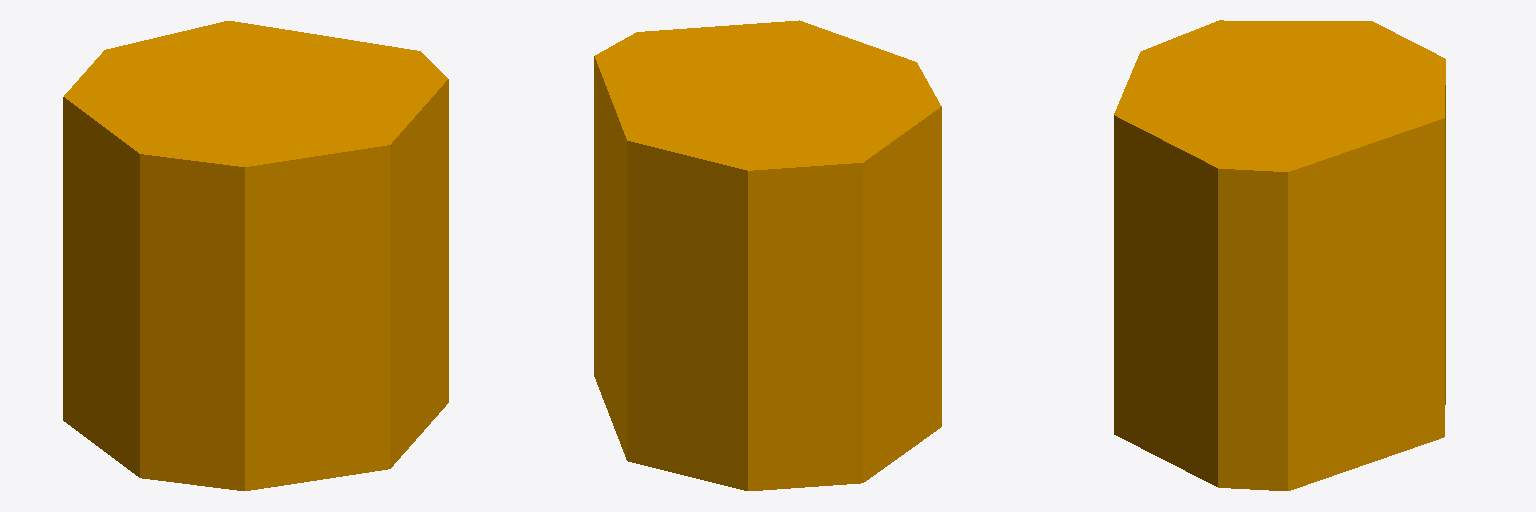
The robot description file, URDF, robot "object":
<?xml version="1.0"?>
<robot name="object">
  <link name="object">
    <visual>
      <origin xyz="0 0 0"/>
      <geometry>
        <mesh filename="meshes/generated/col_094.obj" scale="0.03 0.03 0.03"/>
      </geometry>
    </visual>
    <collision>
      <origin xyz="0 0 0"/>
      <geometry>
        <mesh filename="meshes/generated/col_094.obj" scale="0.03 0.03 0.03"/>
      </geometry>
    </collision>
    <inertial>
      <density value="1000.0"/>
    </inertial>
  </link>
</robot>

--- What the picture shows (computed from the rendered views, not written in the file) ---
Views: 3 orthographic renders of the robot side by side, from view 1: azimuth 30°, elevation 25°; view 2: azimuth 150°, elevation 25°; view 3: azimuth 270°, elevation 25°.
Model object with 1 links and 0 joints (none), rooted at object, posed every joint at zero.
Links seen in each view (by area): view 1: object; view 2: object; view 3: object.
Link boxes in pixels (bbox=[...]): object: bbox=[63, 21, 448, 490]; object: bbox=[594, 20, 941, 490]; object: bbox=[1114, 20, 1445, 490].
Size in the robot's own frame: 0.0612 by 0.0566 by 0.06 metres.
Meshes: 1 distinct files referenced, 1 mesh visuals loaded (1 OBJ).
